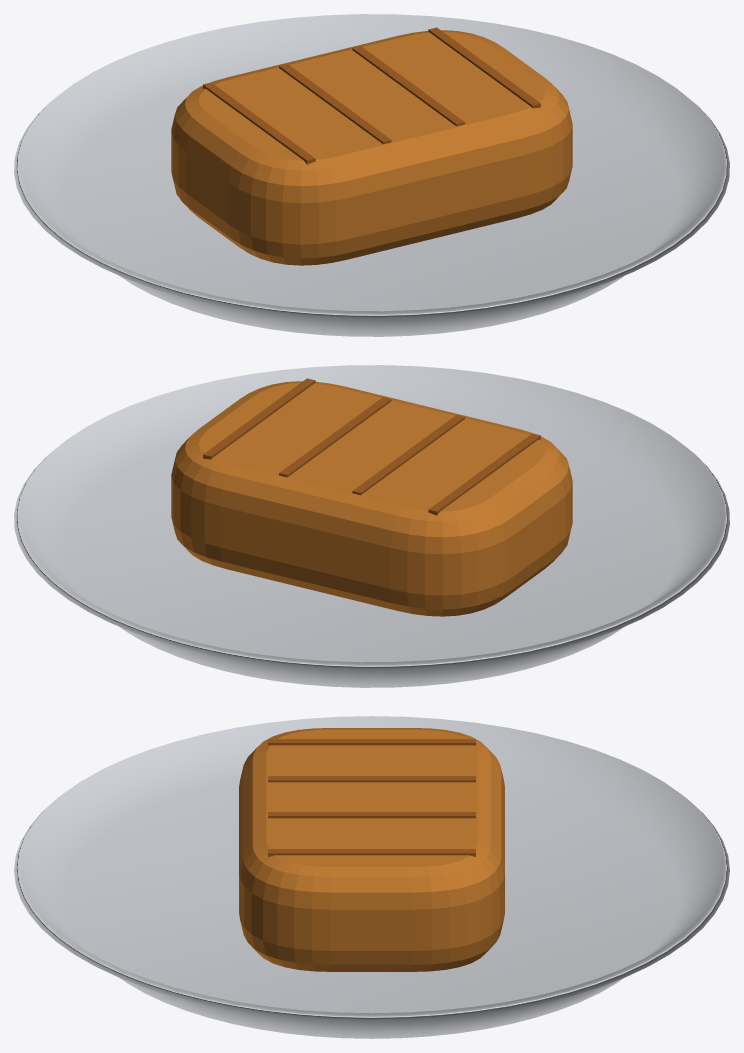
Rendered from alba-pain-au-chocolat.glb.
3 renders of one model, top to bottom at view 1: azimuth 30°, elevation 25°; view 2: azimuth 150°, elevation 25°; view 3: azimuth 270°, elevation 25°, orthographic.
Bounding box in the file's own units: 0.22 × 0.0403 × 0.22.
